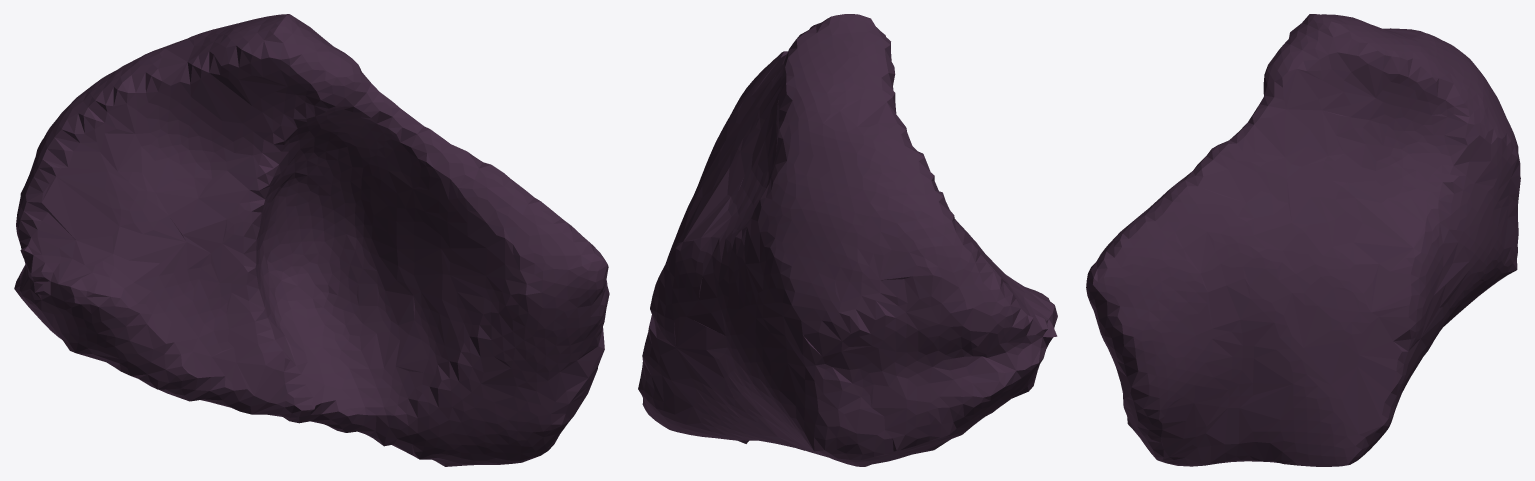
Rendered from Model_197_RH__Basolateral_amygdaloid_nucleus_(BL).obj.
3 renders of one model, left to right at view 1: azimuth 30°, elevation 25°; view 2: azimuth 150°, elevation 25°; view 3: azimuth 270°, elevation 25°, orthographic. The views are drawn at different scales.
Size of the model in its own units: 3.4 by 3.1 by 3.2.
